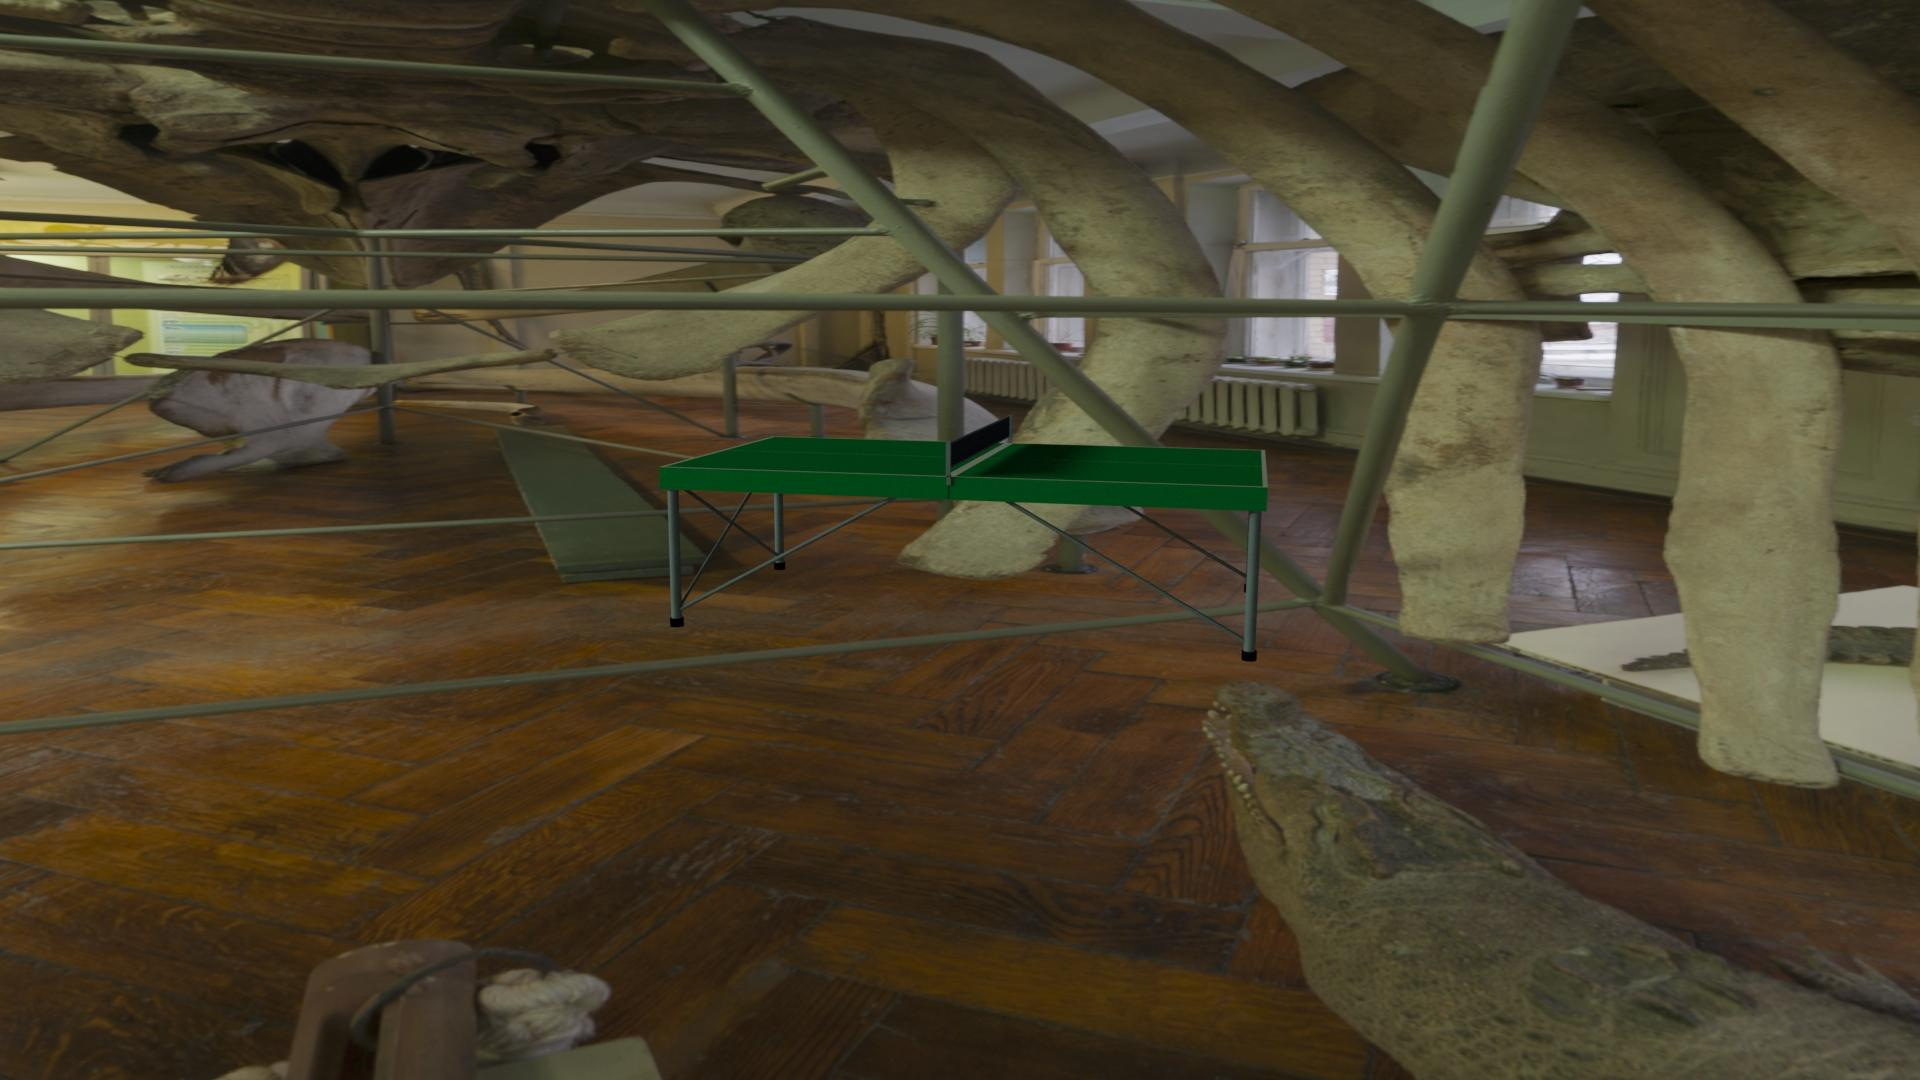table: (665, 436, 1263, 487)
